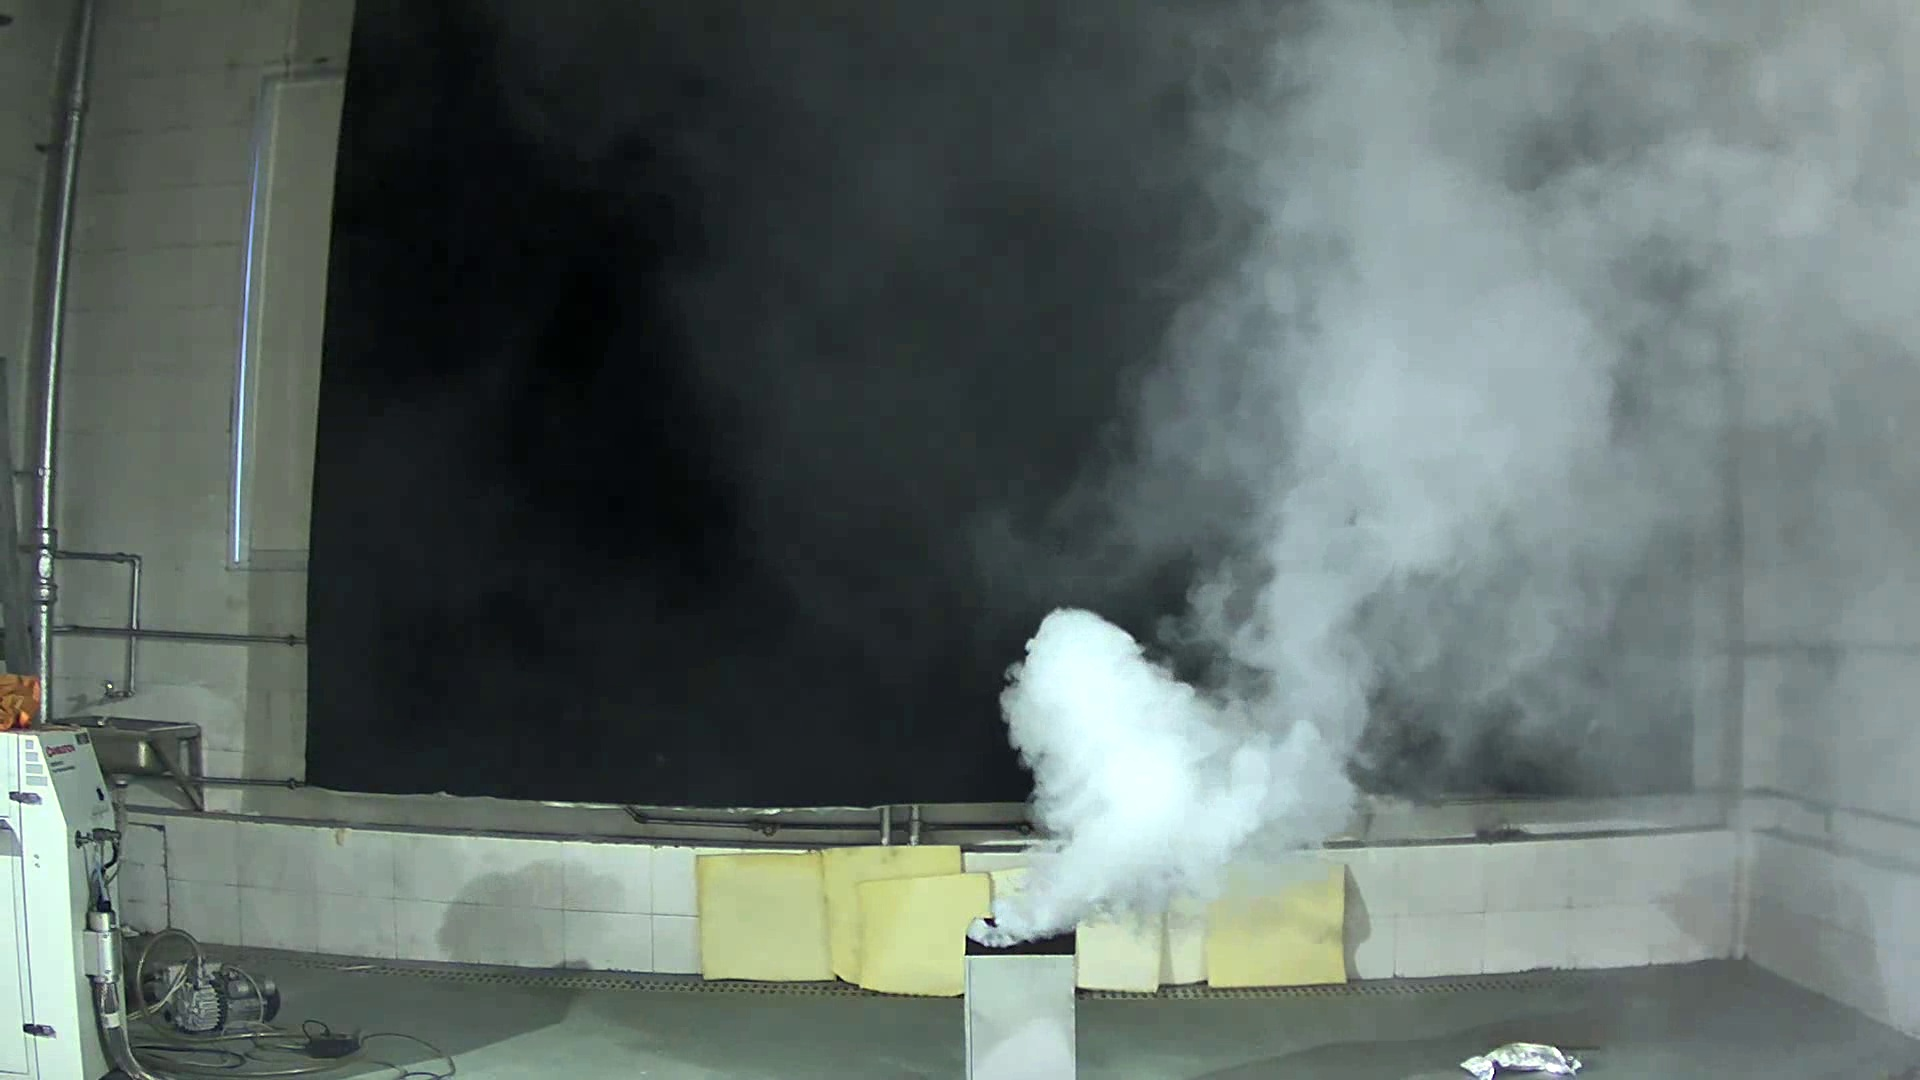smoke: (956, 599, 1390, 953)
